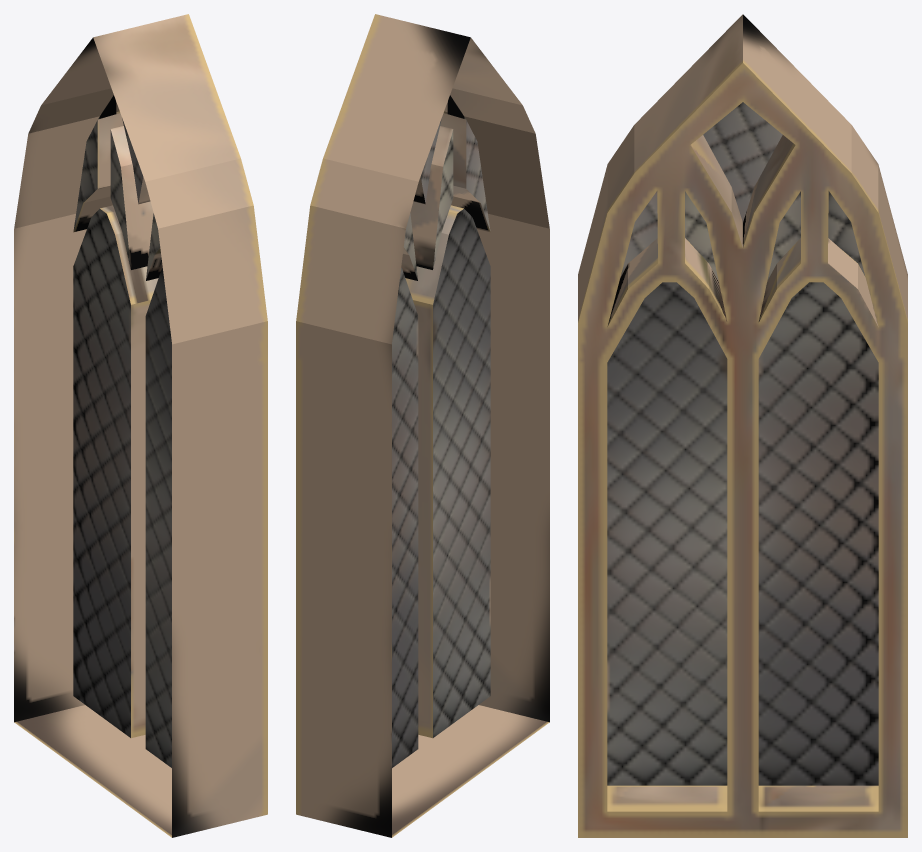
The model's file is Window.fbx.
3 renders of one model, left to right at view 1: azimuth 30°, elevation 25°; view 2: azimuth 150°, elevation 25°; view 3: azimuth 270°, elevation 25°, orthographic. The views are drawn at different scales.
Visible parts, largest first — view 1: Big Window; view 2: Big Window; view 3: Big Window.
Part boxes in pixels (x1=…): Big Window: x1=14, y1=14, x2=267, y2=837; Big Window: x1=296, y1=14, x2=549, y2=837; Big Window: x1=578, y1=14, x2=907, y2=837.
Bounding box in the file's own units: 55.85 × 414 × 160.
